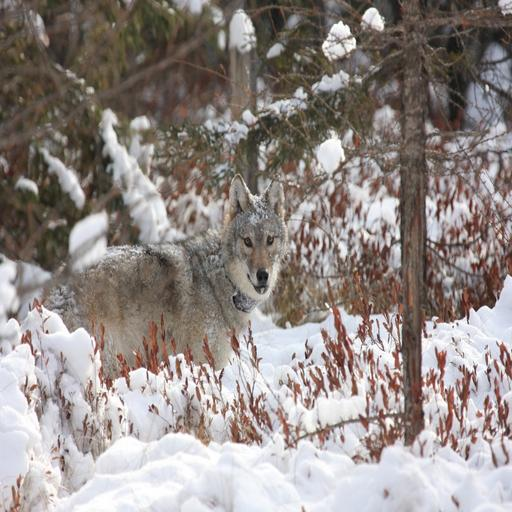Wolf: (25, 174, 301, 450)
